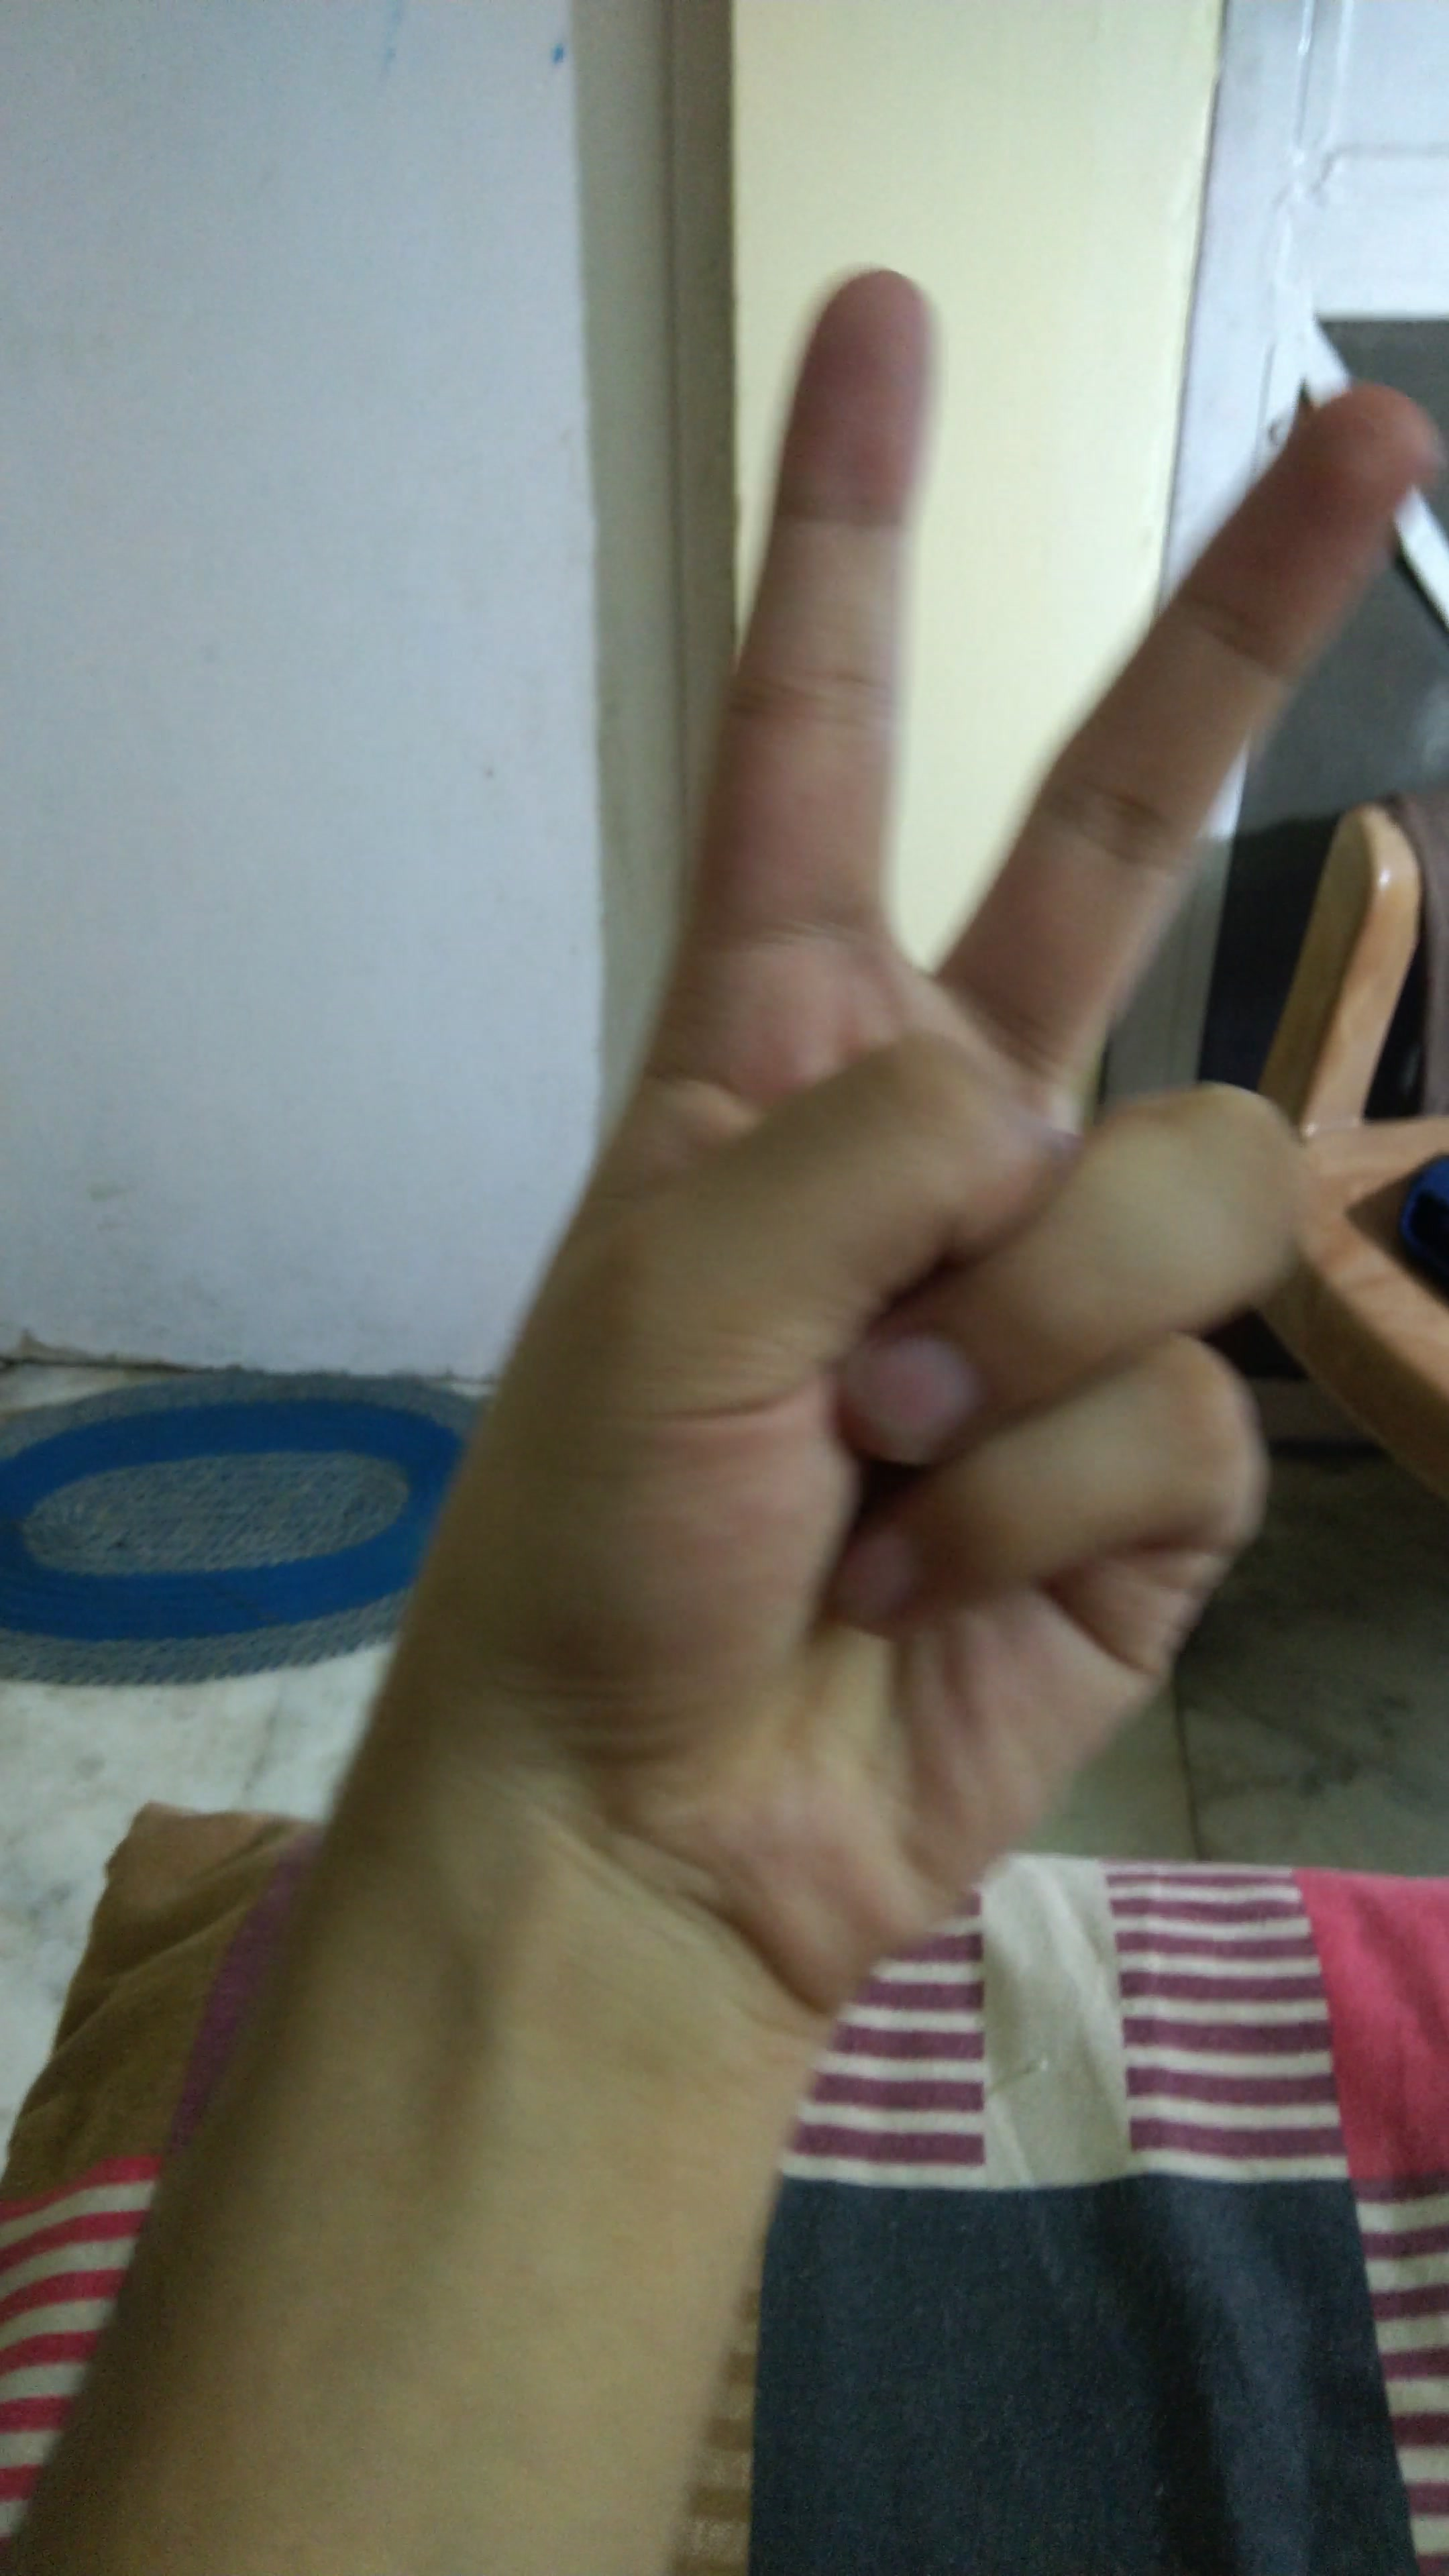hand: (264, 242, 1407, 2006)
